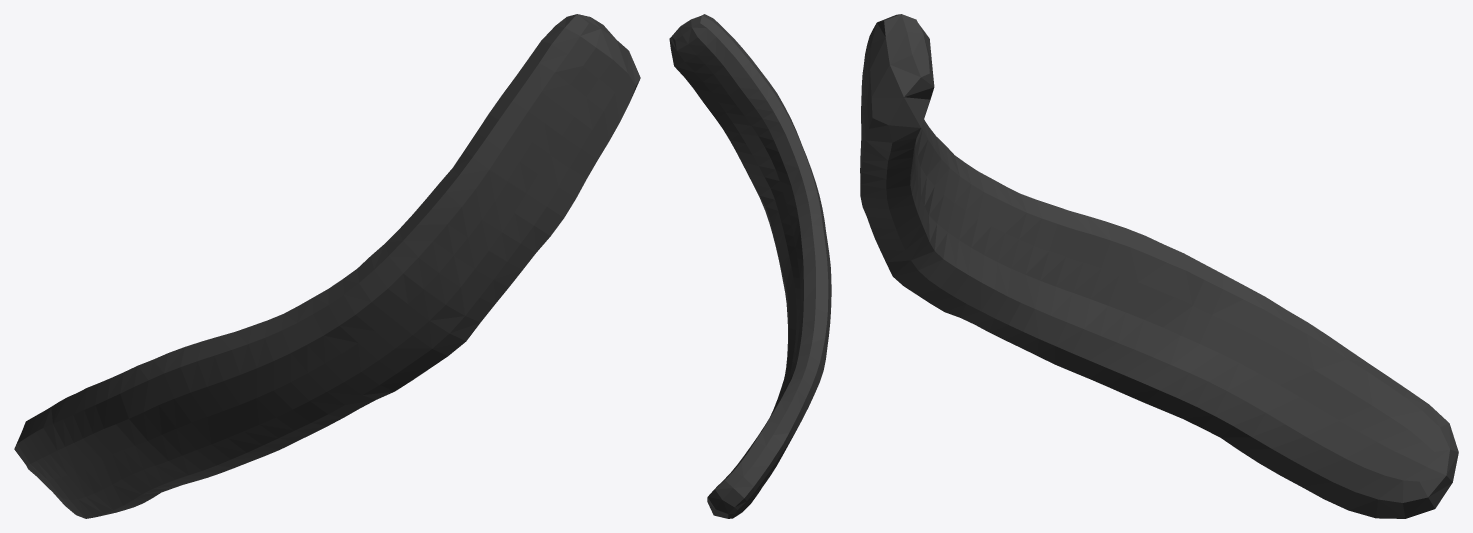
The model's file is PARACONAL_IV_GROOVE.glb.
3 renders of one model, left to right at view 1: azimuth 30°, elevation 25°; view 2: azimuth 150°, elevation 25°; view 3: azimuth 270°, elevation 25°, orthographic. The views are drawn at different scales.
Visible parts, largest first — view 1: PARACONAL_IV_GROOVE; view 2: PARACONAL_IV_GROOVE; view 3: PARACONAL_IV_GROOVE.
Boxes of the visible parts, x1,y1,x2,y2 form: PARACONAL_IV_GROOVE: [14, 14, 640, 518]; PARACONAL_IV_GROOVE: [669, 14, 831, 518]; PARACONAL_IV_GROOVE: [860, 14, 1458, 518].
Size of the model in its own units: 30.95 by 44.71 by 37.51.
1 material, 1 textured.
